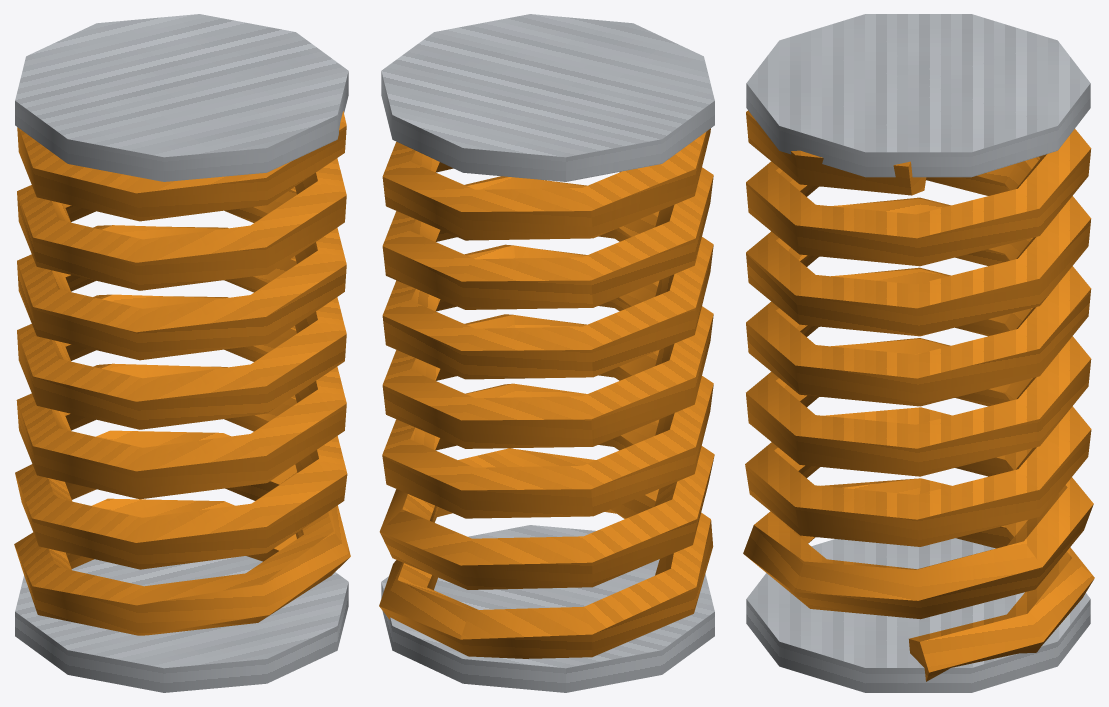
File: molas_n3.glb
3 renders of one model, left to right at view 1: azimuth 30°, elevation 25°; view 2: azimuth 150°, elevation 25°; view 3: azimuth 270°, elevation 25°, orthographic.
Parts seen in each view (by area): view 1: molas_n3; view 2: molas_n3; view 3: molas_n3.
Part boxes in pixels (x1,y1,x2,y2): molas_n3: [14, 14, 350, 692]; molas_n3: [379, 14, 714, 692]; molas_n3: [743, 14, 1094, 692].
Size of the model in its own units: 0.1529 by 0.26 by 0.1534.
Materials: 1 (1 with a texture image).
